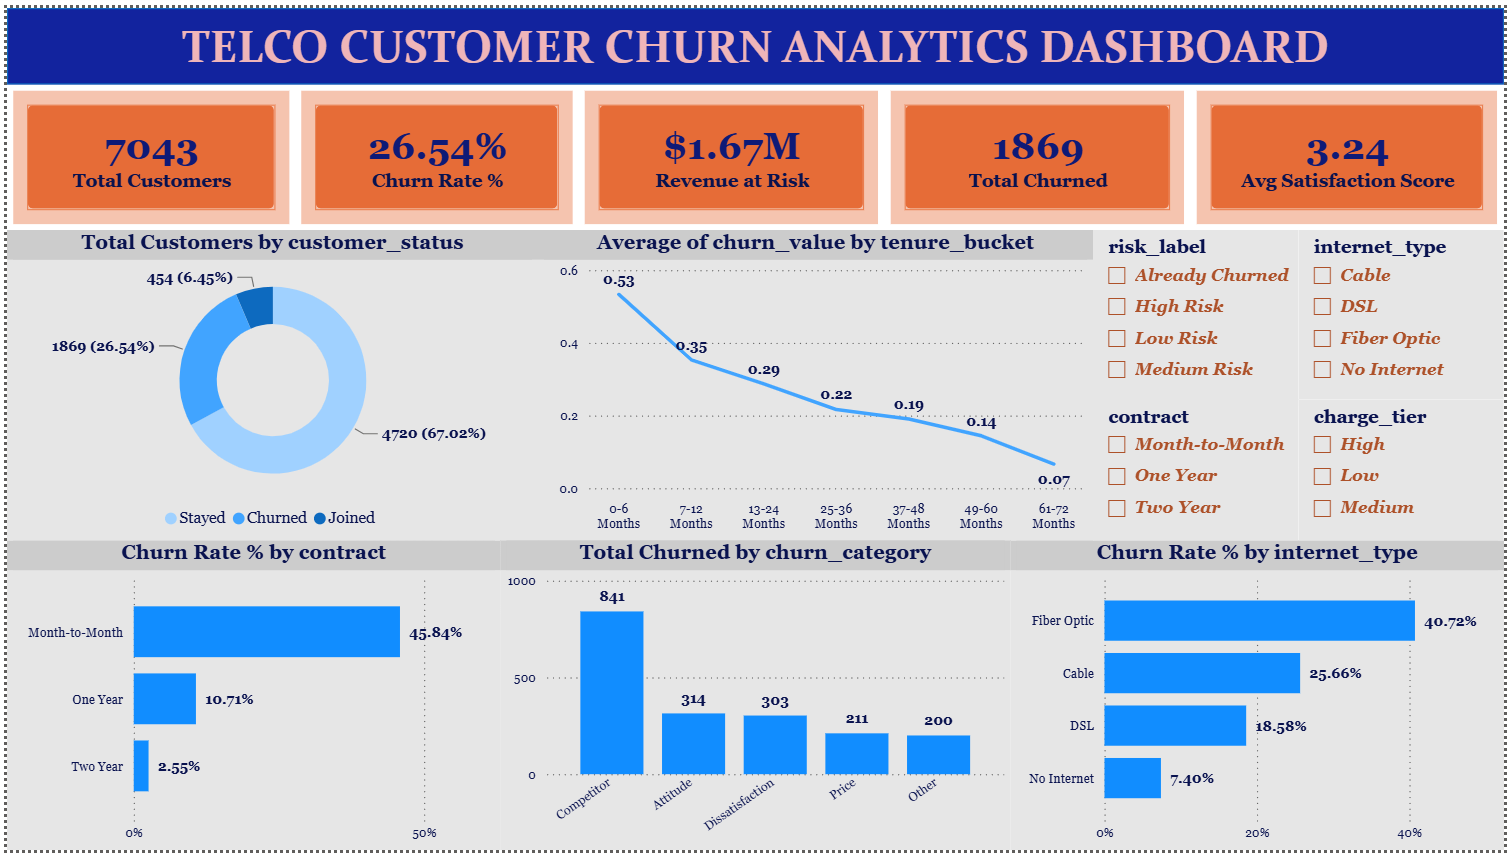

The dashboard page shown, as its layout file describes it:
{"tool":"powerbi","page":{"name":"Dashboard","canvas":[1280,720],"ordinal":0},"visuals":[{"type":"cardVisual","fields":{"Data":["_Measures.Total Customers"]},"box":[0,65.4,246.2,124.4],"z":0},{"type":"cardVisual","fields":{"Data":["_Measures.Churn Rate %"]},"box":[246.2,65.4,242.3,124.4],"z":1000},{"type":"cardVisual","fields":{"Data":["_Measures.Total Churned"]},"box":[750,65.4,261.5,124.4],"z":2000},{"type":"cardVisual","fields":{"Data":["_Measures.Revenue at Risk"]},"box":[488.5,65.4,261.5,124.4],"z":3000},{"type":"cardVisual","fields":{"Data":["_Measures.Avg Satisfaction Score"]},"box":[1011.5,65.4,267.9,124.4],"z":4000},{"type":"clusteredBarChart","fields":{"Category":["dim_services.contract"],"Y":["_Measures.Churn Rate %"]},"box":[0,455.1,421.8,265.4],"z":5000},{"type":"donutChart","fields":{"Category":["dim_status.customer_status"],"Y":["_Measures.Total Customers"]},"box":[0,189.7,453.8,265.4],"z":6000},{"type":"clusteredBarChart","fields":{"Category":["dim_services.internet_type"],"Y":["_Measures.Churn Rate %"]},"box":[857.7,455.1,421.8,265.4],"z":7000},{"type":"lineChart","fields":{"Category":["ChurnData.tenure_bucket"],"Y":["Avg(ChurnData.churn_value)"]},"box":[453.8,189.7,474.4,265.4],"z":8000},{"type":"clusteredColumnChart","fields":{"Category":["dim_status.churn_category"],"Y":["_Measures.Total Churned"]},"box":[421.8,455.1,435.9,265.4],"z":9000},{"type":"slicer","fields":{"Values":["dim_services.contract"]},"box":[928.2,334.6,175.6,120.5],"z":10000},{"type":"slicer","fields":{"Values":["dim_services.internet_type"]},"box":[1103.8,189.7,175.6,144.9],"z":11000},{"type":"slicer","fields":{"Values":["ChurnData.risk_label"]},"box":[928.2,189.7,175.6,150],"z":12000},{"type":"slicer","fields":{"Values":["ChurnData.charge_tier"]},"box":[1103.8,334.6,175.6,120.5],"z":13000},{"type":"shape","box":[0,0,1279.5,65.4],"z":14000}]}

Visuals, with their boxes in screenshot pixels (x1, y1, x2, y2), scaled from the page's 1280x720 canvas onto the 1509x855 screenshot:
cardVisual - _Measures.Total Customers: box=[0, 78, 290, 225]
cardVisual - _Measures.Churn Rate %: box=[290, 78, 576, 225]
cardVisual - _Measures.Total Churned: box=[884, 78, 1192, 225]
cardVisual - _Measures.Revenue at Risk: box=[576, 78, 884, 225]
cardVisual - _Measures.Avg Satisfaction Score: box=[1192, 78, 1508, 225]
clusteredBarChart - dim_services.contract x _Measures.Churn Rate %: box=[0, 540, 497, 854]
donutChart - dim_status.customer_status x _Measures.Total Customers: box=[0, 225, 535, 540]
clusteredBarChart - dim_services.internet_type x _Measures.Churn Rate %: box=[1011, 540, 1508, 854]
lineChart - ChurnData.tenure_bucket x Avg(ChurnData.churn_value): box=[535, 225, 1094, 540]
clusteredColumnChart - dim_status.churn_category x _Measures.Total Churned: box=[497, 540, 1011, 854]
slicer - dim_services.contract: box=[1094, 397, 1301, 540]
slicer - dim_services.internet_type: box=[1301, 225, 1508, 397]
slicer - ChurnData.risk_label: box=[1094, 225, 1301, 403]
slicer - ChurnData.charge_tier: box=[1301, 397, 1508, 540]
shape: box=[0, 0, 1508, 78]
